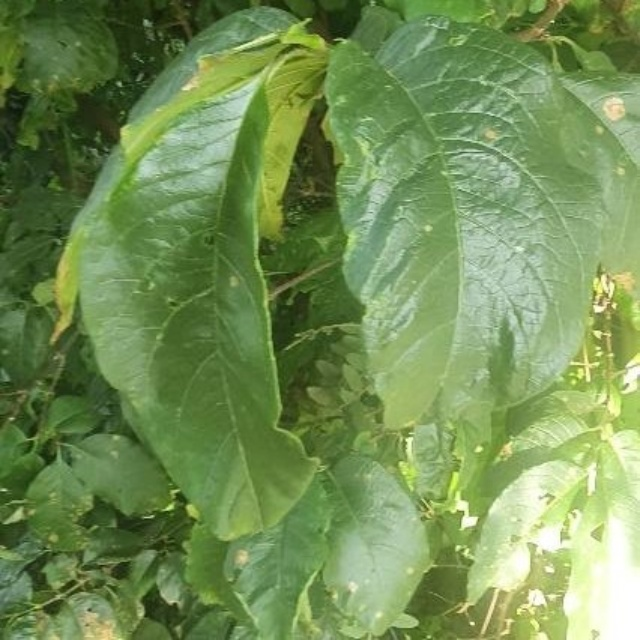obstacle: (78, 38, 568, 562)
